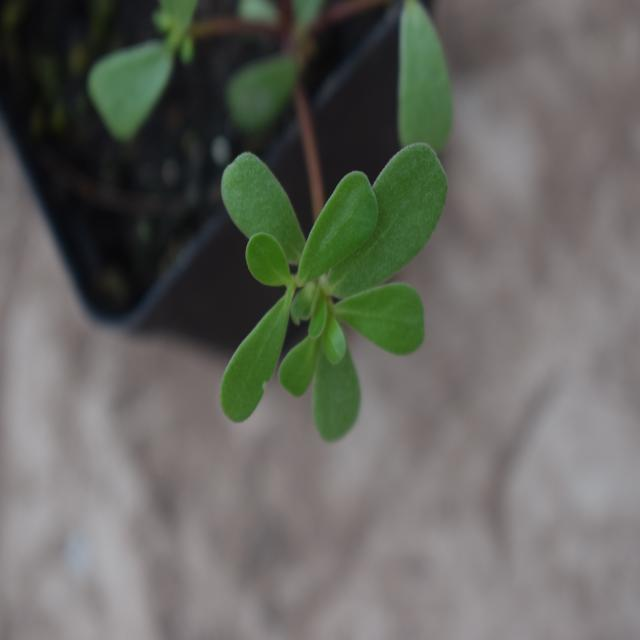purslane: (186, 76, 487, 460)
